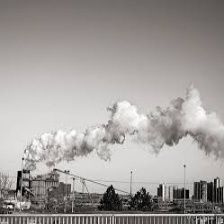smoke: (19, 92, 221, 165)
